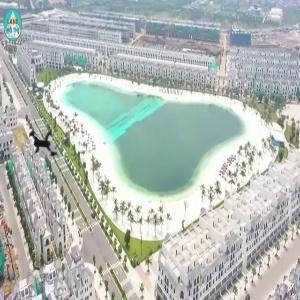drone: (12, 110, 79, 177)
